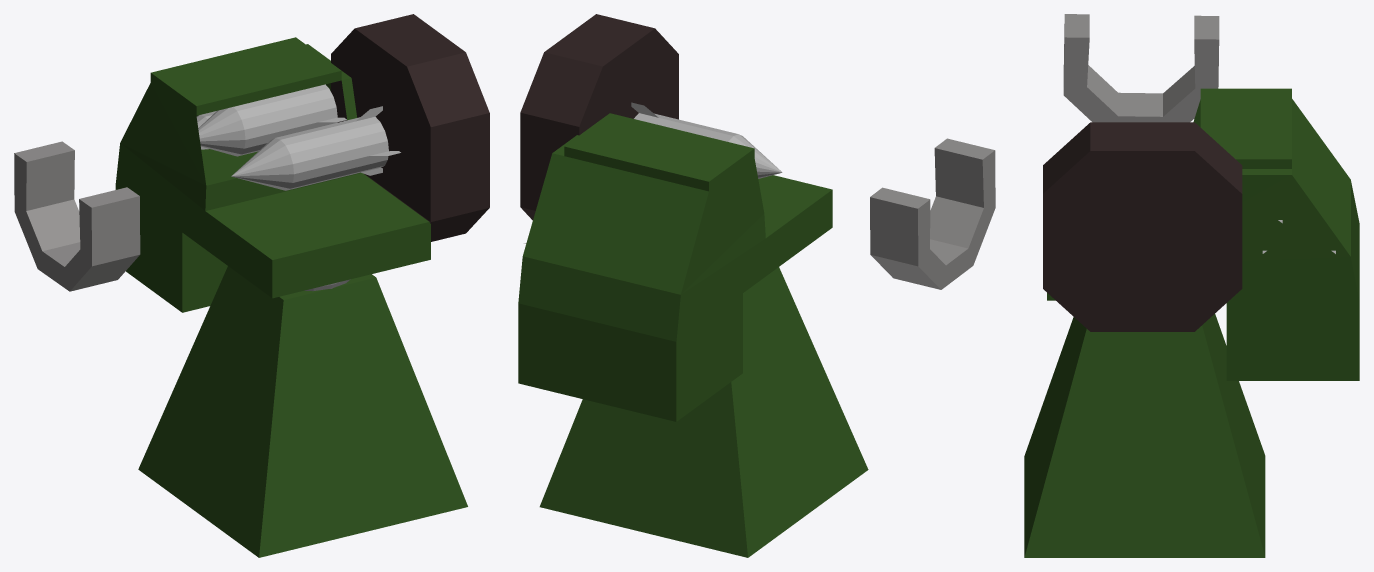
3 renders of one model, left to right at view 1: azimuth 30°, elevation 25°; view 2: azimuth 150°, elevation 25°; view 3: azimuth 270°, elevation 25°, orthographic.
Visible parts, largest first — view 1: Куб, Куб.001, Куб.004, Цилиндр.002, Цилиндр, Цилиндр.004; view 2: Куб.001, Куб, Куб.004, Цилиндр.002, Цилиндр; view 3: Куб, Куб.004, Куб.001, Цилиндр.002.
Part boxes in pixels (x1,y1,x2,y2): Куб: (138,266,467,557); Куб.001: (115,37,430,312); Куб.004: (331,14,489,241); Цилиндр.002: (14,141,140,291); Цилиндр: (231,106,400,190); Цилиндр.004: (198,84,346,156); Куб.001: (518,113,832,421); Куб: (539,267,868,557); Куб.004: (520,14,678,220); Цилиндр.002: (870,138,995,289); Цилиндр: (631,102,782,178); Куб: (1024,314,1265,557); Куб.004: (1043,122,1242,331); Куб.001: (1047,88,1359,380); Цилиндр.002: (1063,14,1219,122).
Bounding box in the file's own units: 1.29 × 1.35 × 0.9688.
5 materials, 1 textured.
